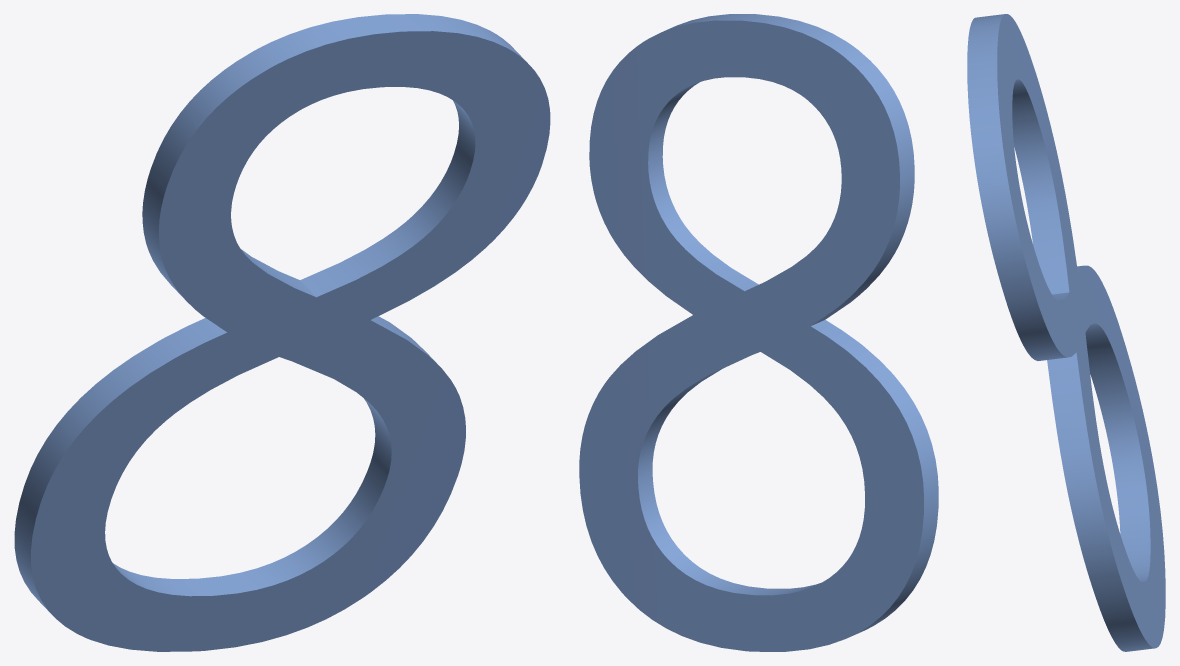
Rendered from New_Number_8.gltf.
3 renders of one model, left to right at view 1: azimuth 30°, elevation 25°; view 2: azimuth 150°, elevation 25°; view 3: azimuth 270°, elevation 25°, orthographic. The views are drawn at different scales.
Parts seen in each view (by area): view 1: Part 107; view 2: Part 107; view 3: Part 107.
Part boxes in pixels (x1=…): Part 107: x1=14, y1=14, x2=550, y2=651; Part 107: x1=579, y1=14, x2=938, y2=651; Part 107: x1=967, y1=14, x2=1165, y2=651.
Bounding box in the file's own units: 0.00393 × 0.00555 × 0.00167.
